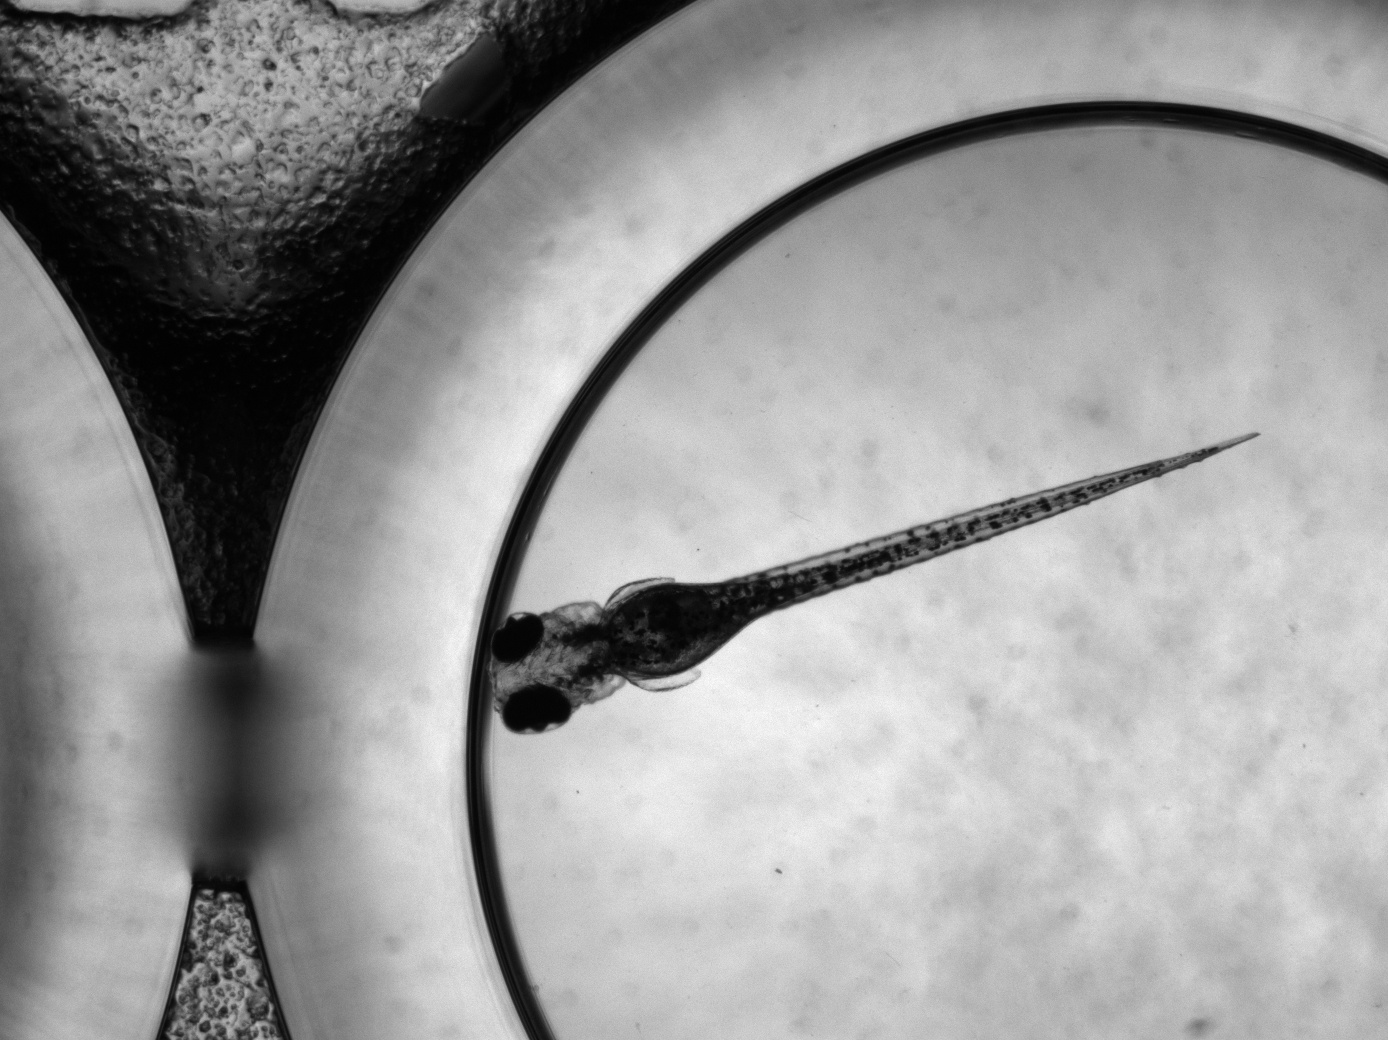embryo: (490, 427, 1264, 735)
eye: (501, 686, 572, 735), (491, 612, 543, 664)
yolksac: (607, 583, 729, 676)
